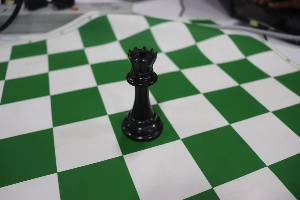black_queen: (113, 37, 168, 145)
